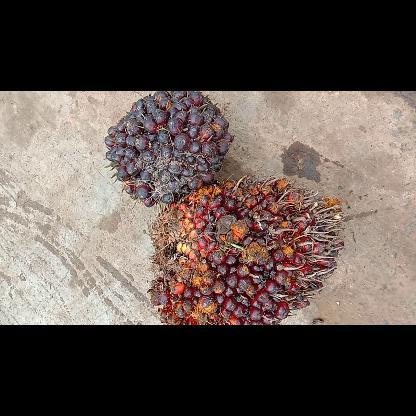TBS masak: (146, 176, 344, 324)
TBS mentah: (104, 91, 233, 207)
